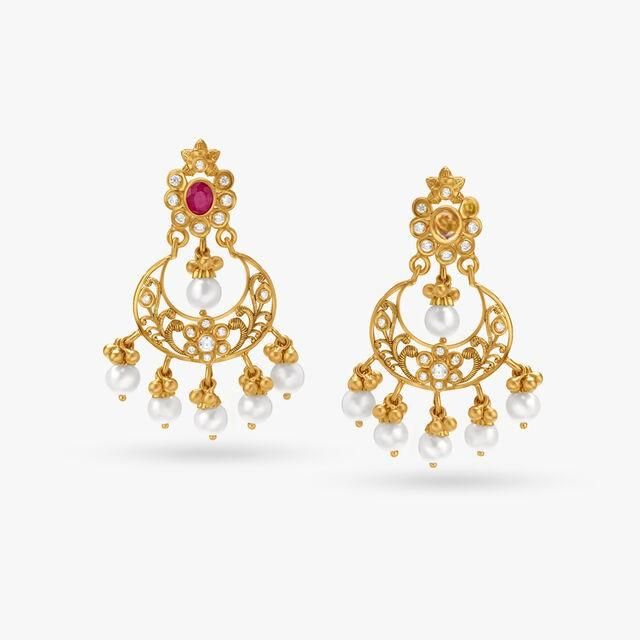missing gem: (433, 208, 460, 239), (463, 202, 476, 214)
